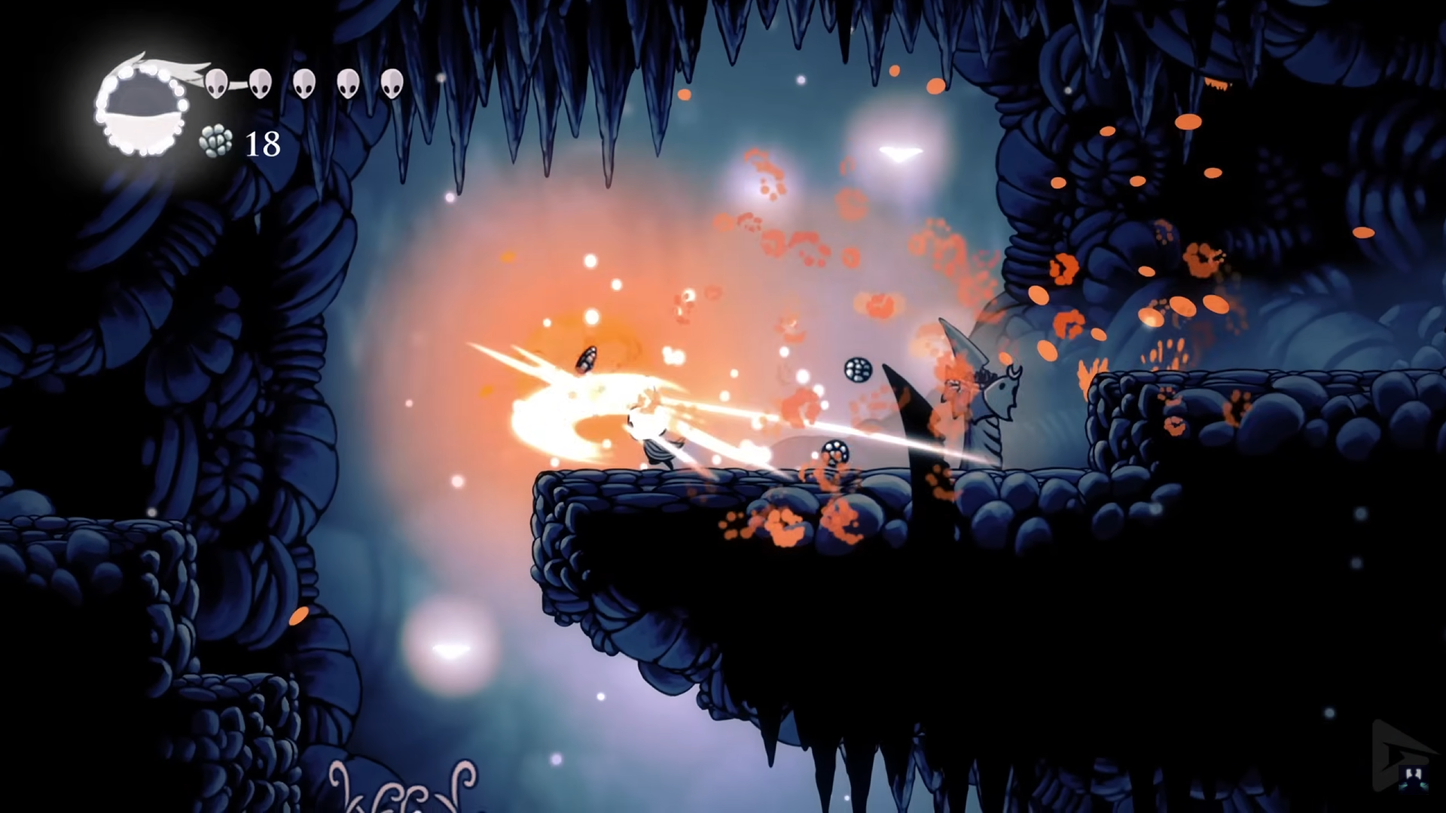HK: (621, 389, 694, 472)
